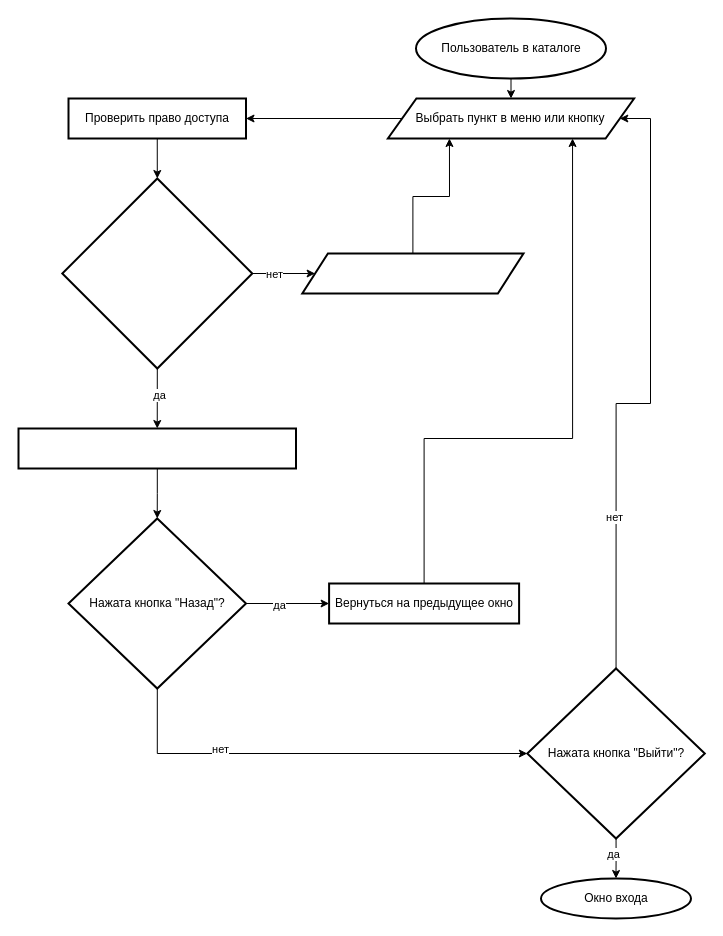
Image size: 723x936. Some labels were removed from this diagram. Here are the shapes that lost their labels. From the top down, the centre of each, then its label:
At (157,273): "Доступ разрешён?".
At (412,273): "Сообщение о запрете действий".
At (156,448): "Открыть нужное окно с корректным заголовком".
